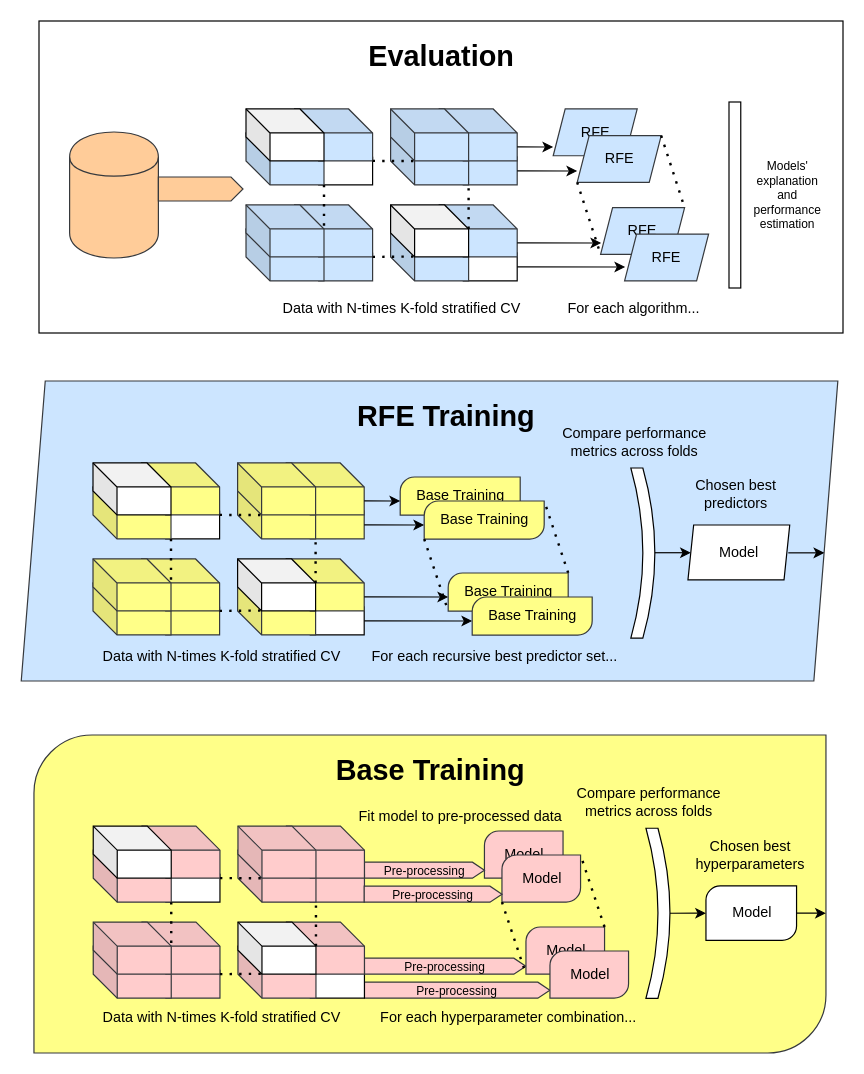
This 864x1074 diagram has some shape labels left out. The centre of each missing label's shape, as x and y in pixels:
"Cleansing" goes at pixel 200 188.
"ELSA dataset" goes at pixel 113 194.
